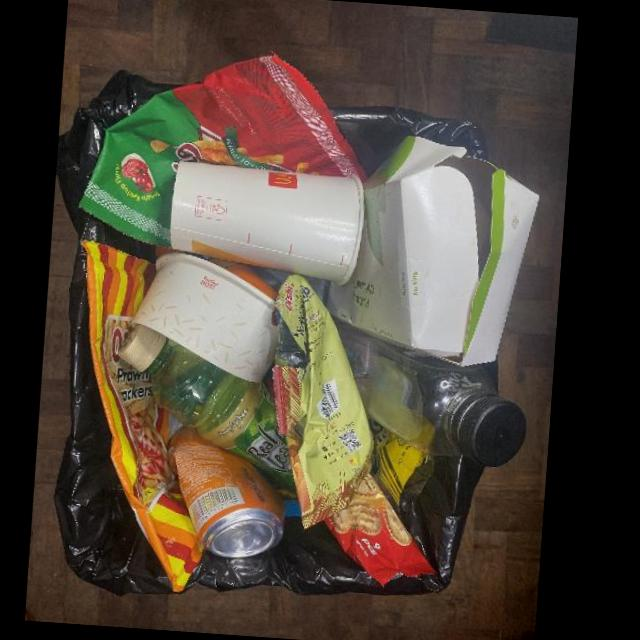bao_bi_thuc_pham: (77, 53, 370, 246), (82, 242, 204, 591), (272, 273, 371, 528), (321, 471, 433, 587), (367, 418, 436, 520)
carton: (325, 134, 541, 364), (169, 159, 365, 286), (127, 252, 278, 387)
chai_nhua: (119, 322, 296, 491)
chai_nhua_pet: (334, 314, 526, 467)
nhom: (167, 426, 284, 559)
